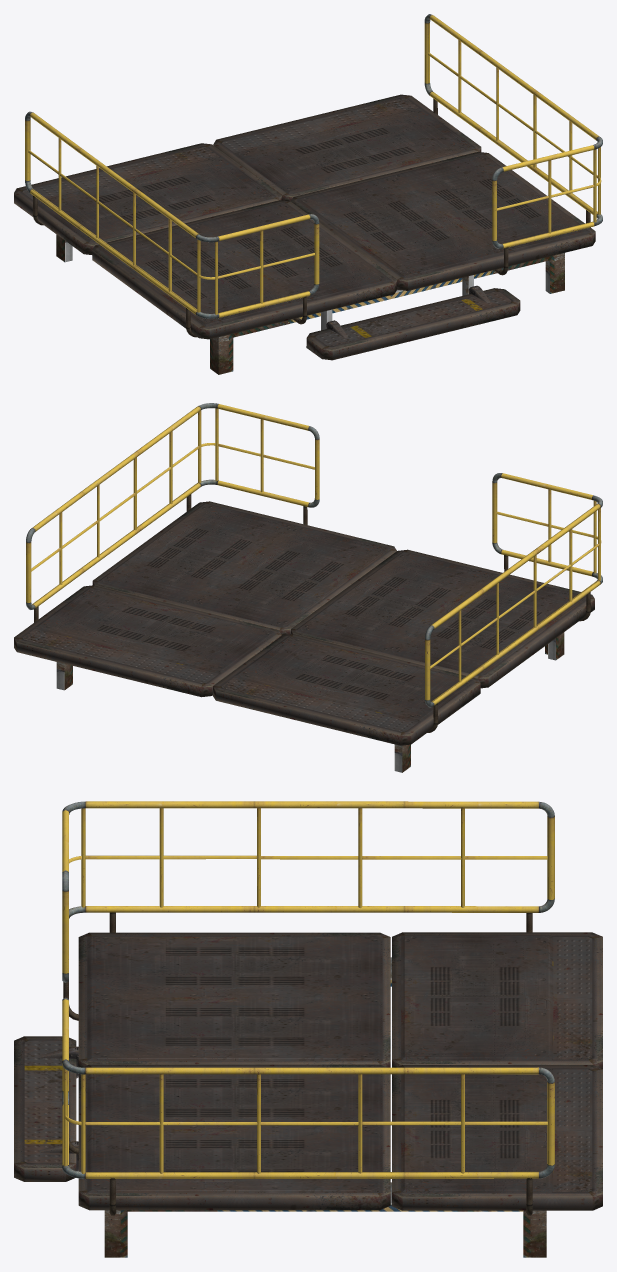
Rendered from FLO_Platform_5mX4m.FBX.
The picture shows the model from 3 angles, top to bottom: view 1: azimuth 30°, elevation 25°; view 2: azimuth 150°, elevation 25°; view 3: azimuth 270°, elevation 25°; orthographic projection. The views are drawn at different scales.
Parts seen in each view (by area): view 1: FLO_Platform_5mX4m_Plates, FLO_Platform_5mX4m_Banister; view 2: FLO_Platform_5mX4m_Plates, FLO_Platform_5mX4m_Banister; view 3: FLO_Platform_5mX4m_Plates, FLO_Platform_5mX4m_Banister.
Part boxes in pixels (x1,y1,x2,y2): FLO_Platform_5mX4m_Plates: (14,94,595,374); FLO_Platform_5mX4m_Banister: (25,14,602,337); FLO_Platform_5mX4m_Plates: (14,501,594,772); FLO_Platform_5mX4m_Banister: (26,403,602,732); FLO_Platform_5mX4m_Plates: (14,932,602,1257); FLO_Platform_5mX4m_Banister: (62,801,554,1215).
Bounding box in the file's own units: 510 × 184 × 472.
2 materials, 2 textured.
